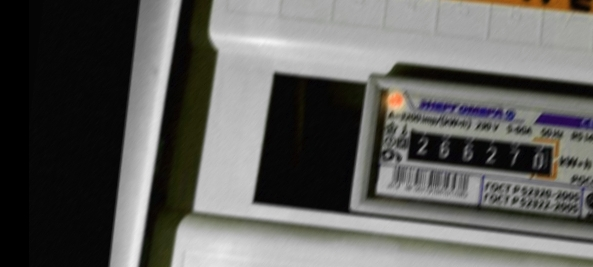0: (531, 148, 545, 169)
2: (415, 133, 432, 155), (485, 143, 499, 164)
6: (438, 138, 452, 159), (462, 140, 476, 161)
7: (508, 146, 522, 166)
screen: (393, 114, 572, 189)
